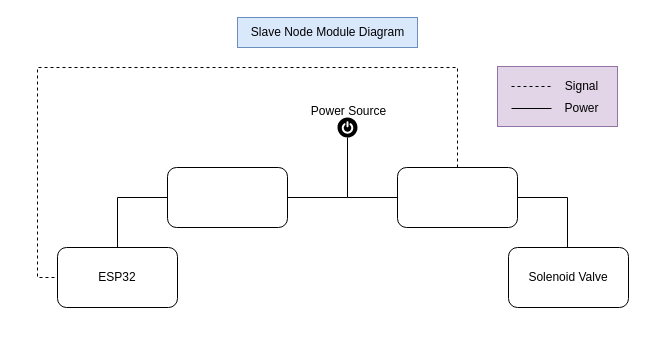
The diagram is 654 pixels wide and 355 high, and some of its shapes have lost their labels. The box of each missing label's shape, as (x1, y1, x2, y2) in pixels:
Buck Converter: (166, 166, 288, 228)
Mechanical Relay: (396, 166, 518, 228)
